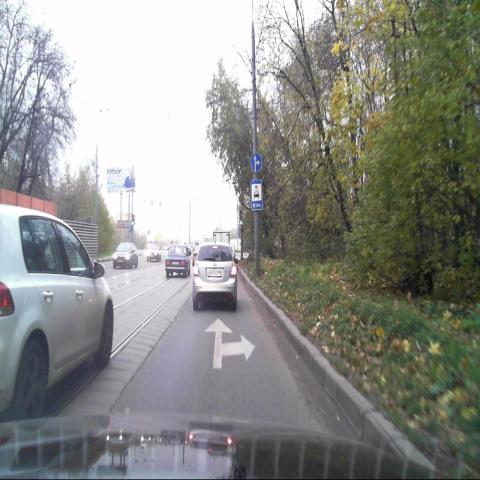4_1_4: (250, 152, 262, 173)
